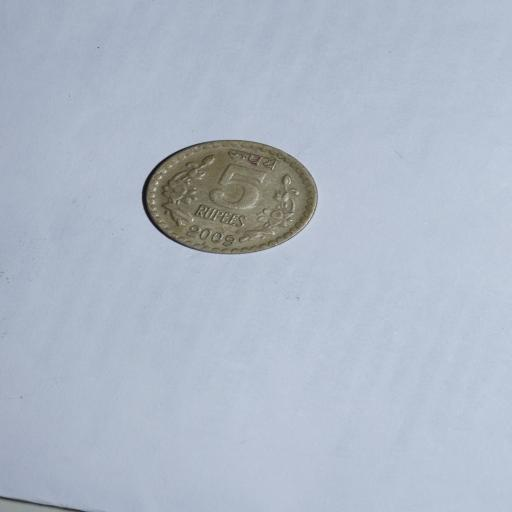rupee5: (143, 141, 316, 253)
